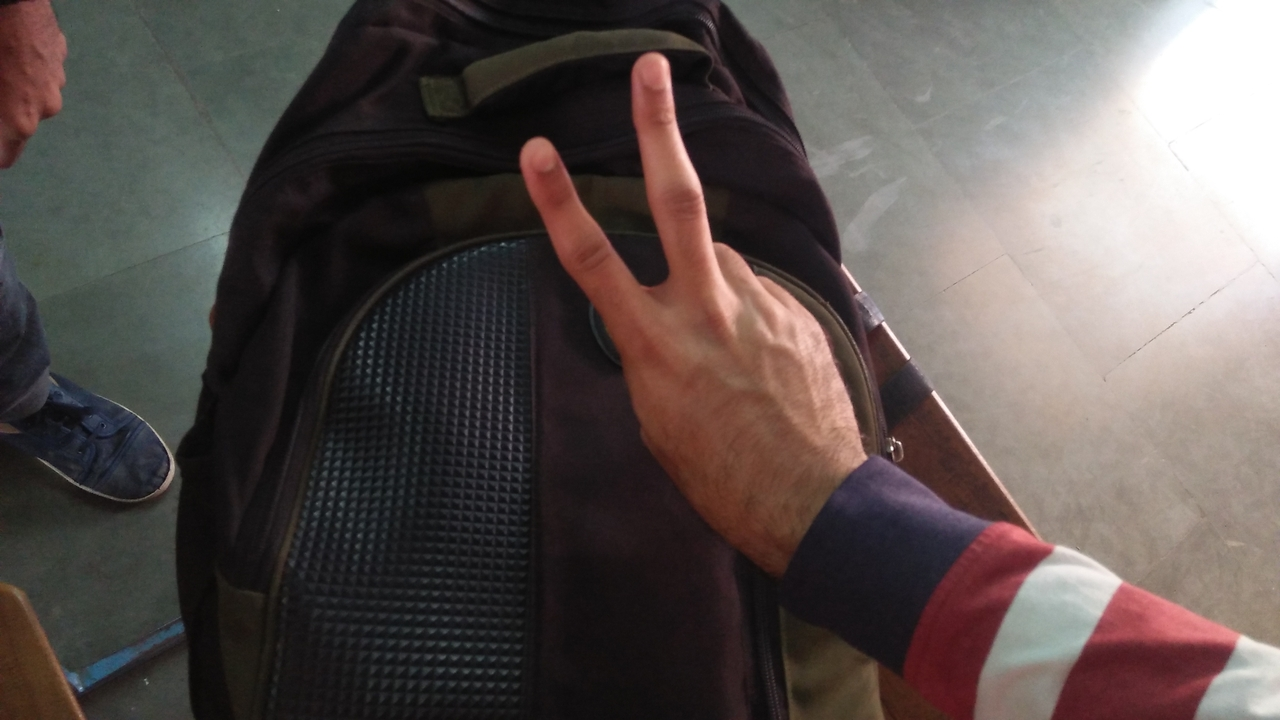fingertip: (510, 130, 572, 186), (626, 46, 680, 100)
